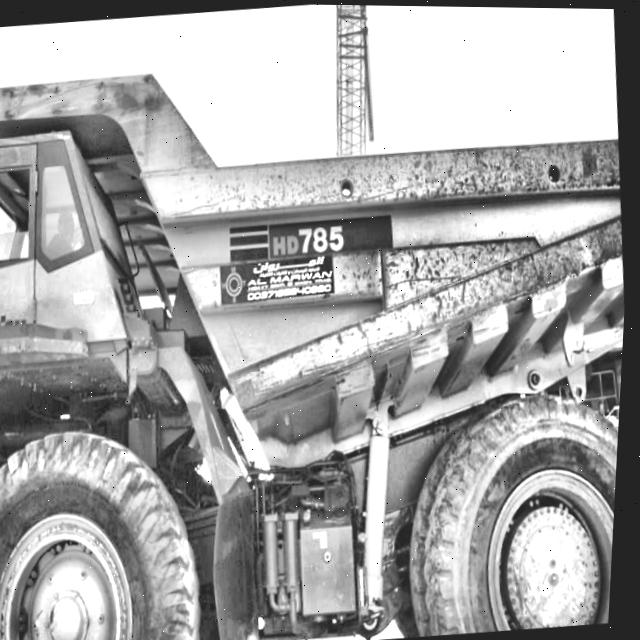dump_truck: (0, 25, 639, 640)
